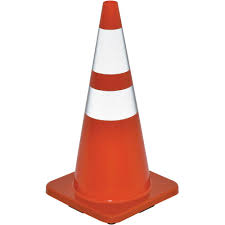cones: (44, 1, 182, 225)
